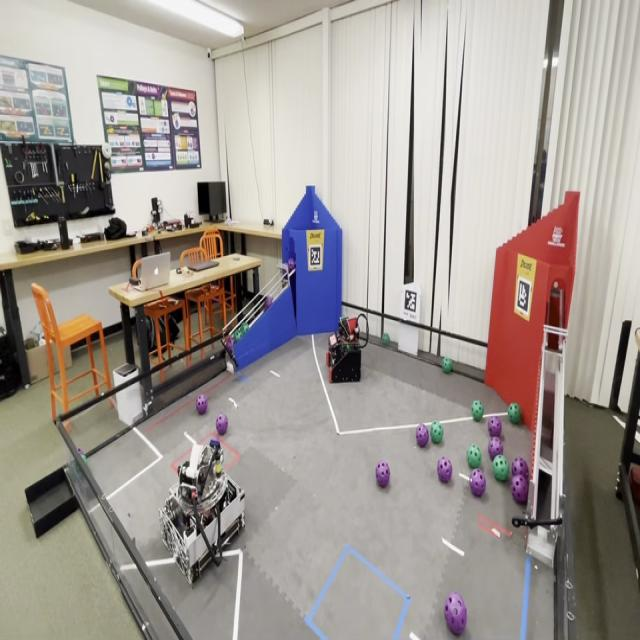artifact_green: (493, 456, 509, 482), (467, 444, 481, 469), (430, 421, 443, 444), (508, 403, 521, 424), (472, 400, 483, 421), (442, 357, 453, 373), (78, 448, 87, 464), (233, 329, 243, 343), (382, 332, 391, 346), (241, 323, 249, 335), (236, 324, 244, 335), (82, 454, 87, 464), (346, 344, 351, 353)
artifact_purple: (444, 592, 467, 635), (512, 476, 528, 504), (470, 469, 485, 497), (376, 460, 389, 488), (438, 457, 452, 483), (488, 438, 503, 461), (512, 457, 529, 477), (416, 424, 429, 447), (488, 416, 501, 437), (216, 413, 227, 435), (196, 394, 207, 414), (226, 336, 235, 350), (264, 296, 273, 309), (288, 258, 295, 272), (281, 265, 287, 276)
